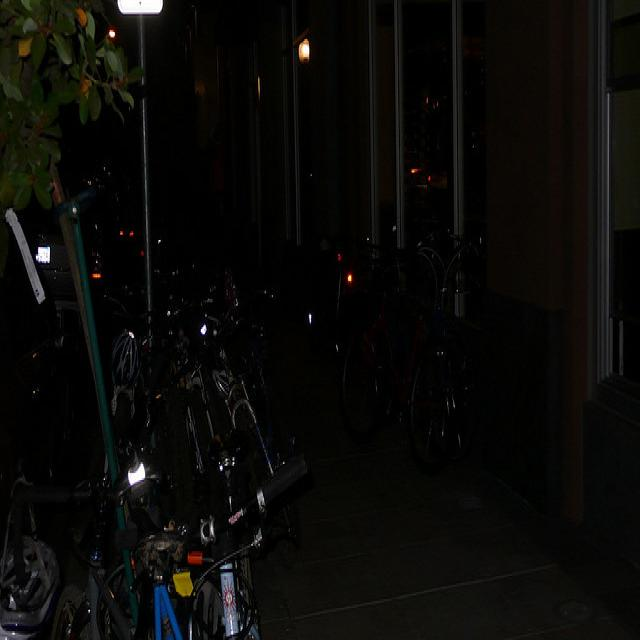Bicycle: (0, 355, 294, 640), (0, 188, 224, 409), (337, 227, 500, 482), (255, 177, 363, 359)
